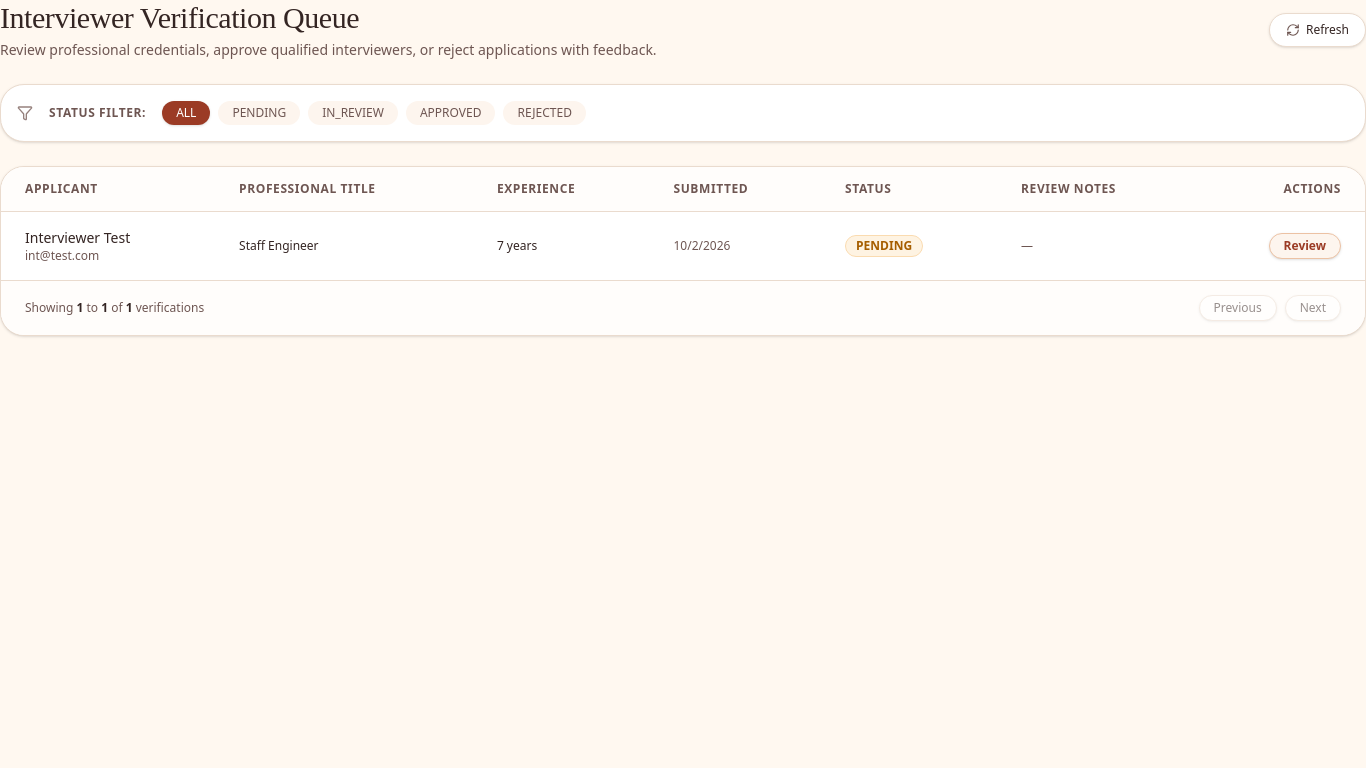
Scenario: Admin Portal Frontend › AdminVerificationsPage › fetches and renders verification queue and opens review modal
This screenshot has width=1366, height=768.
Expected: the text "Interviewer Test" is shown, [25,228,130,248]
Expected: the text "Staff Engineer" is shown, [215,212,473,280]
Click the button "Review". click: (1305, 246)
box: [1269,233,1341,259]
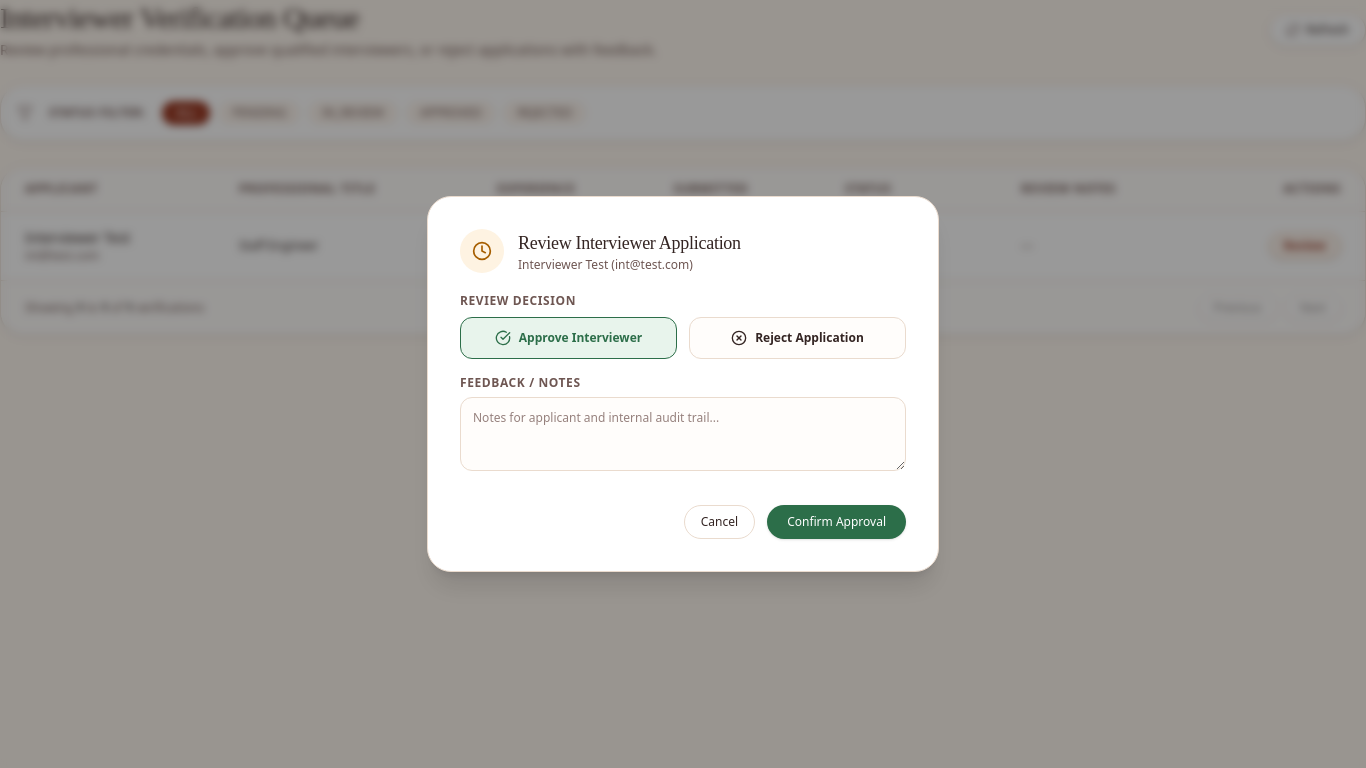
Result: the heading "Review Interviewer Application" is shown at [518,229,741,257]
Result: the radio button "Approve Interviewer" is shown at [460,317,677,359]
Result: the radio button "Reject Application" is shown at [689,317,906,359]
